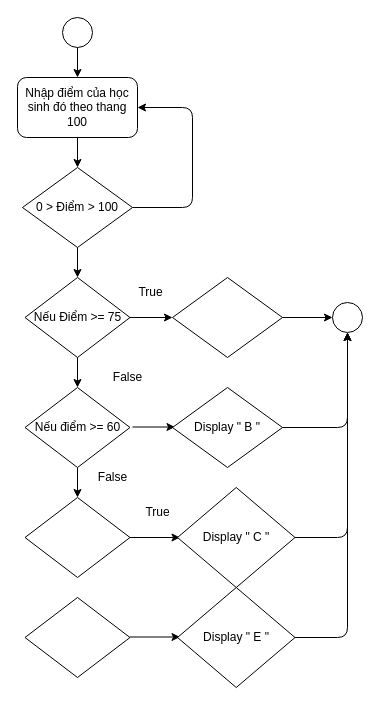
Image size: 380x705. Some labels were removed from this diagram. Each missing label, with the centre of its shape:
Display " A ": (x=227, y=317)
Nếu Điểm <= 45: (x=77, y=637)
Nếu Điểm >= 45: (x=77, y=537)
